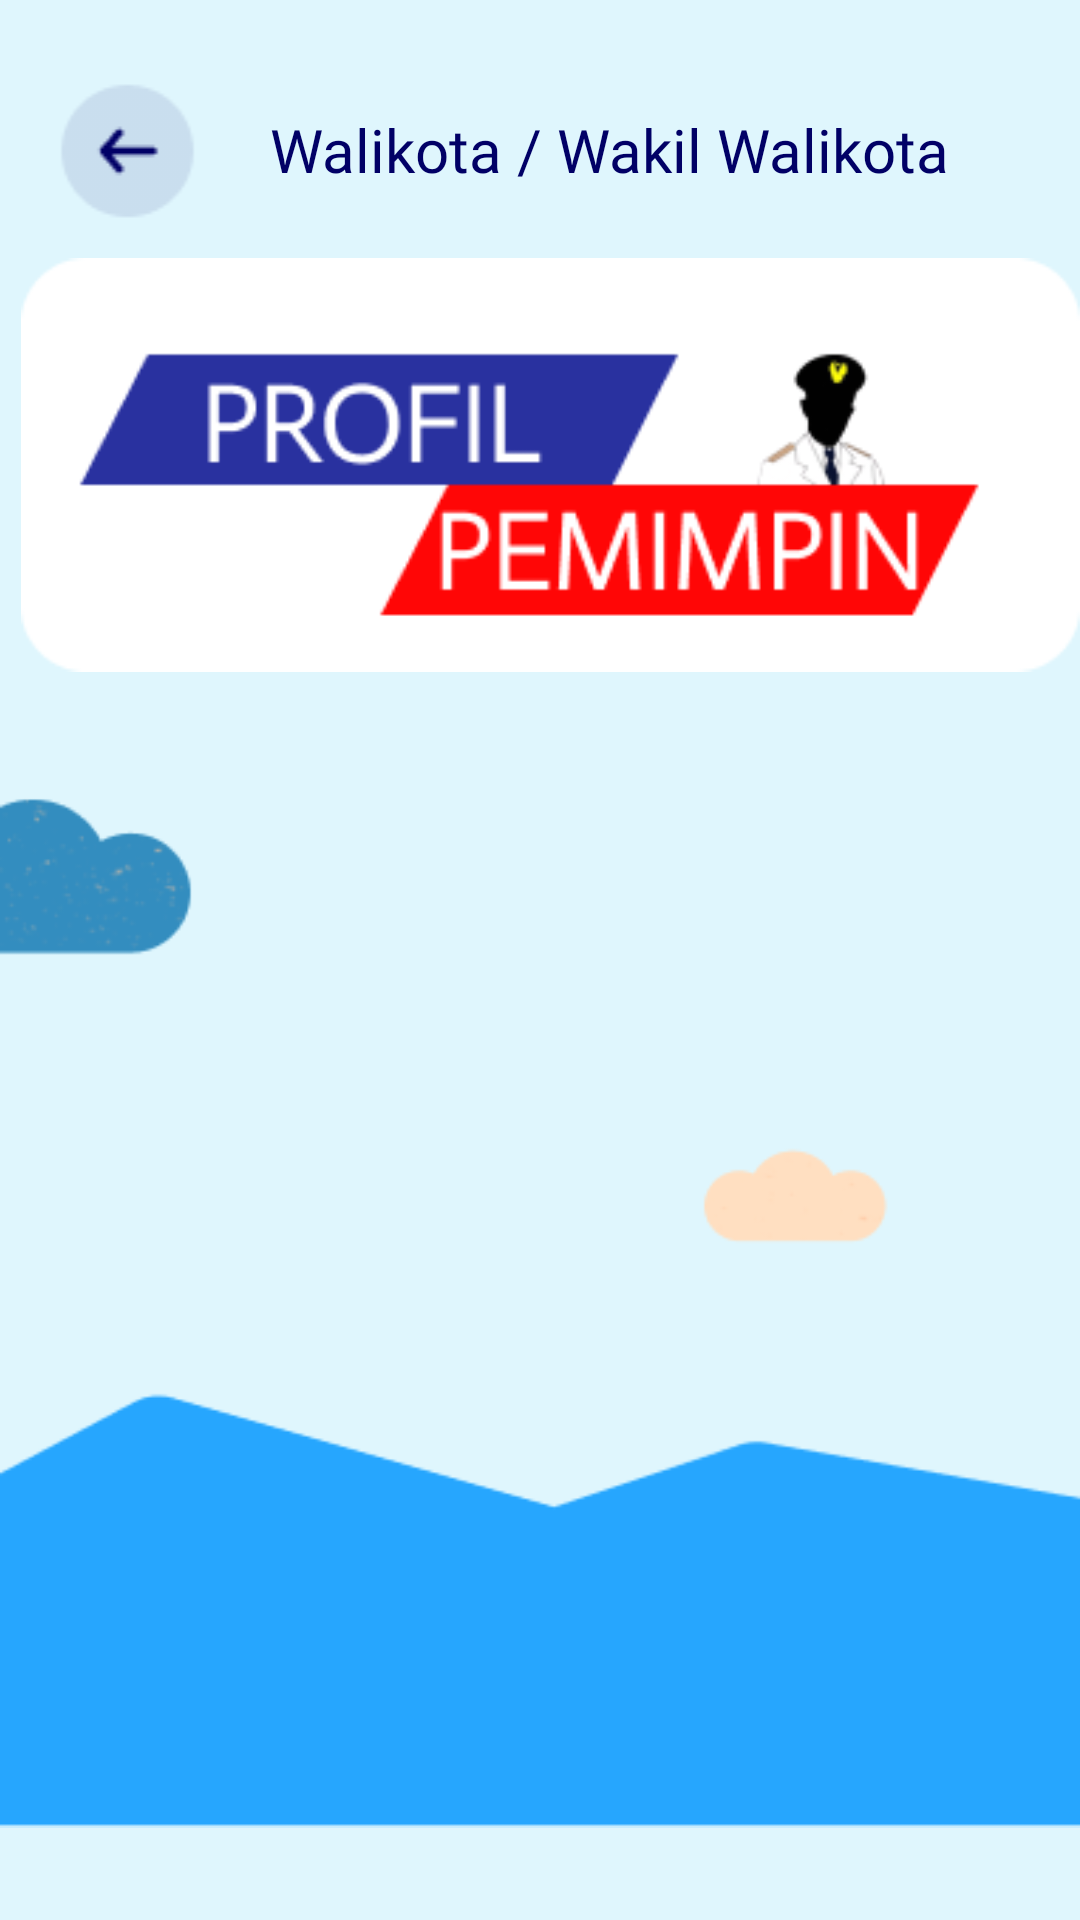

Where icons sit on this 1080*1920 app screen, as [x1=x1, y1=y1, x2=x2, y2=y2]:
back: [x1=61, y1=85, x2=194, y2=217]
